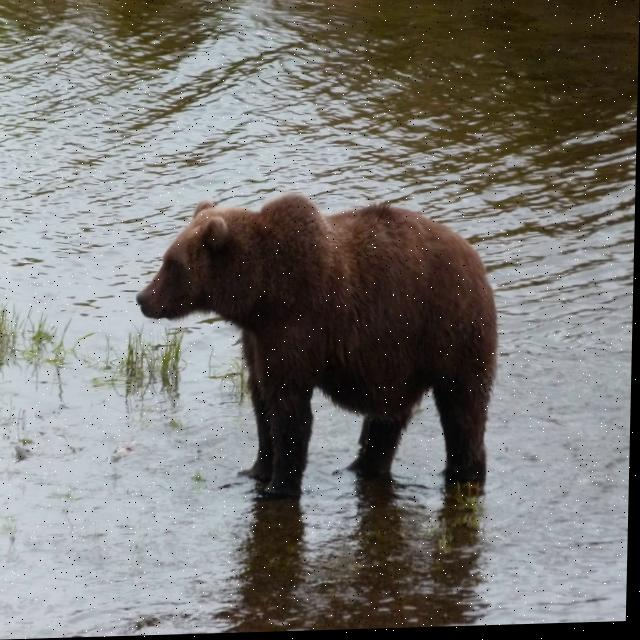bear face: (132, 196, 499, 493)
